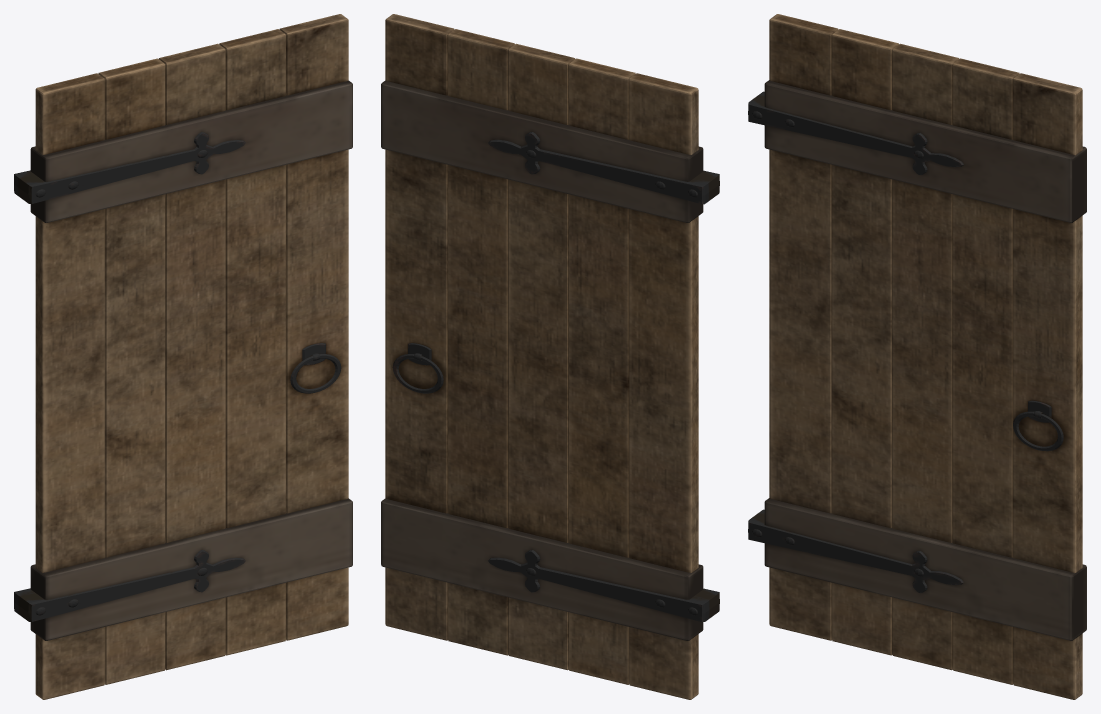
File: BW_StableA01_HumanDoor.fbx
3 views of the same model, side by side, from view 1: azimuth 30°, elevation 25°; view 2: azimuth 150°, elevation 25°; view 3: azimuth 330°, elevation 25° (orthographic).
Parts seen in each view (by area): view 1: BW_StableA01_HumanDoor; view 2: BW_StableA01_HumanDoor; view 3: BW_StableA01_HumanDoor.
Boxes of the visible parts, x1,y1,x2,y2 form: BW_StableA01_HumanDoor: (14,14,352,699); BW_StableA01_HumanDoor: (381,14,719,699); BW_StableA01_HumanDoor: (748,14,1086,699).
Bounding box in the file's own units: 1.27 × 2.27 × 0.1318.
